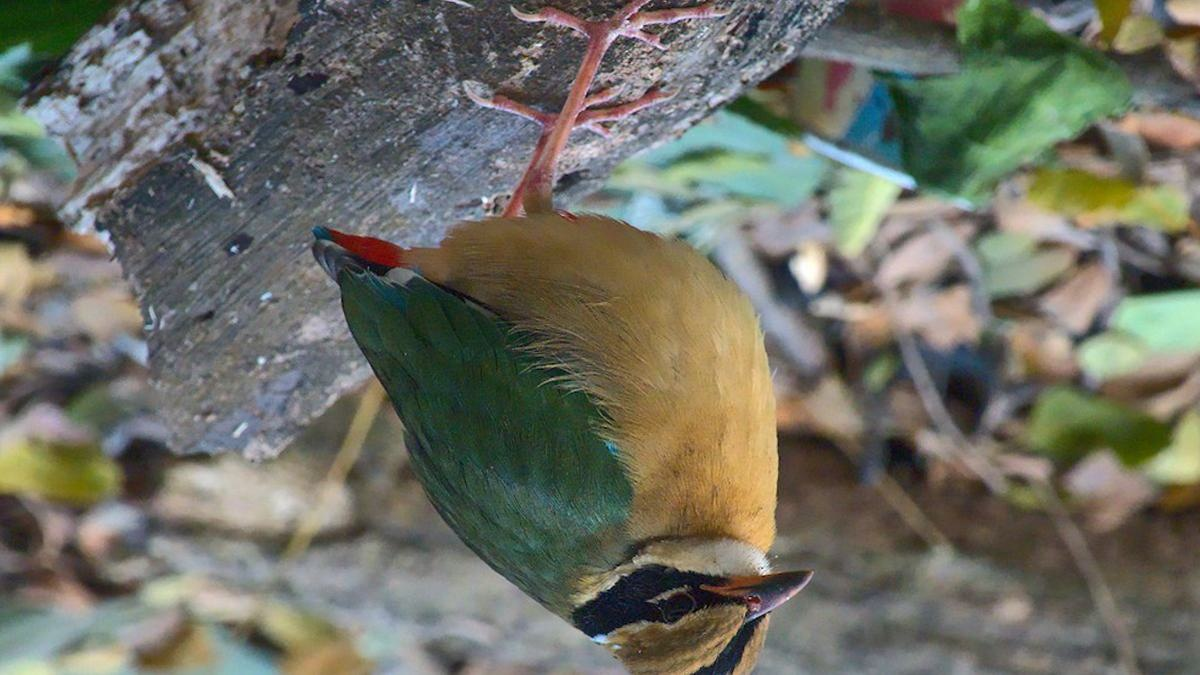pitta: (300, 141, 831, 667)
